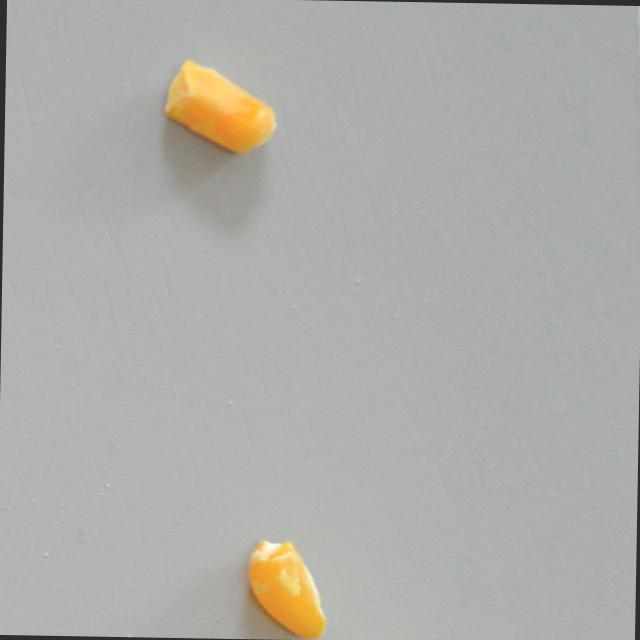pelicula: (159, 58, 279, 155), (246, 539, 329, 640)
